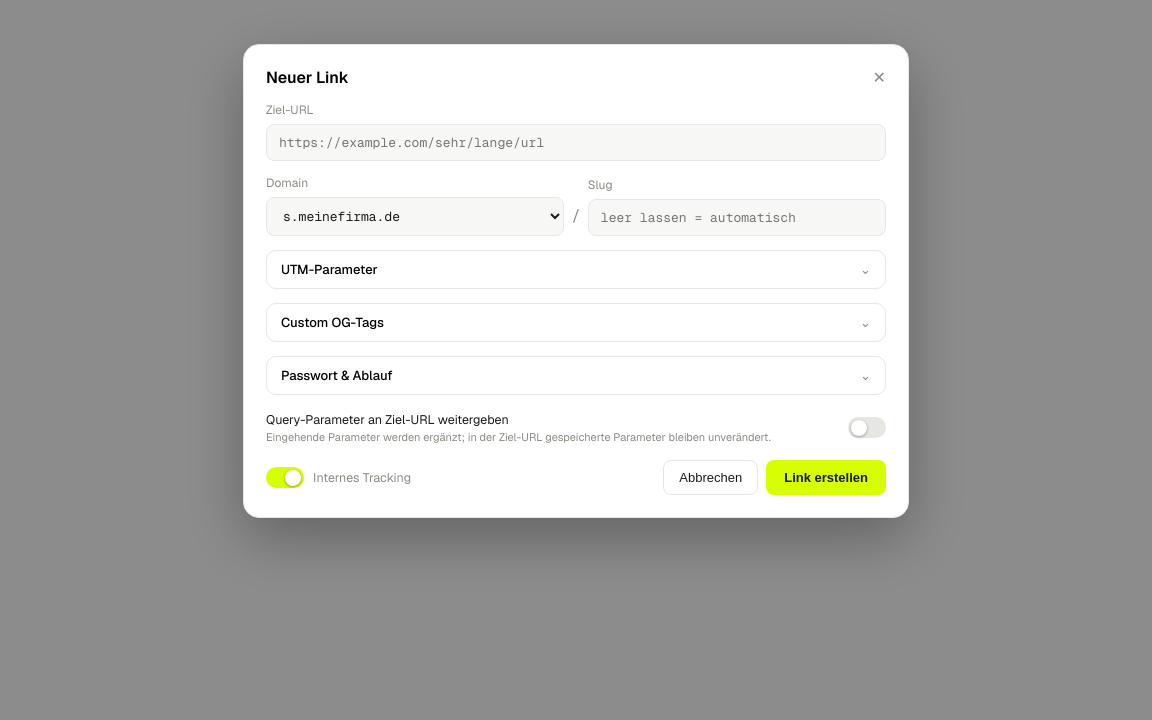
Test case: LinkFormModal › the Security accordion is collapsed by default and shows a summary suffix once a password is set
Expected: the element with class "accordion-header--sec" does not show "gesetzt"
Click the button with class "accordion-header--sec".
click(337, 376)  # box 281,367 -> 871,384
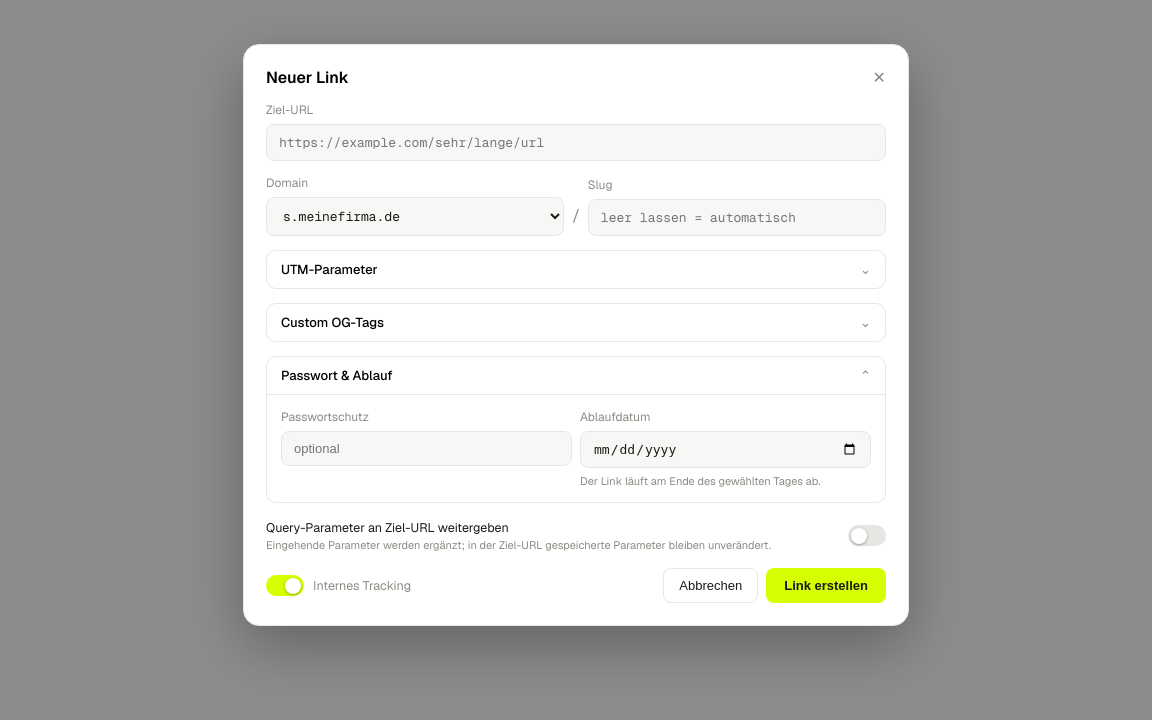
Type "secret" into the password field with placeholder "optional".
click(426, 448); type("secret")  # box 281,431 -> 572,466
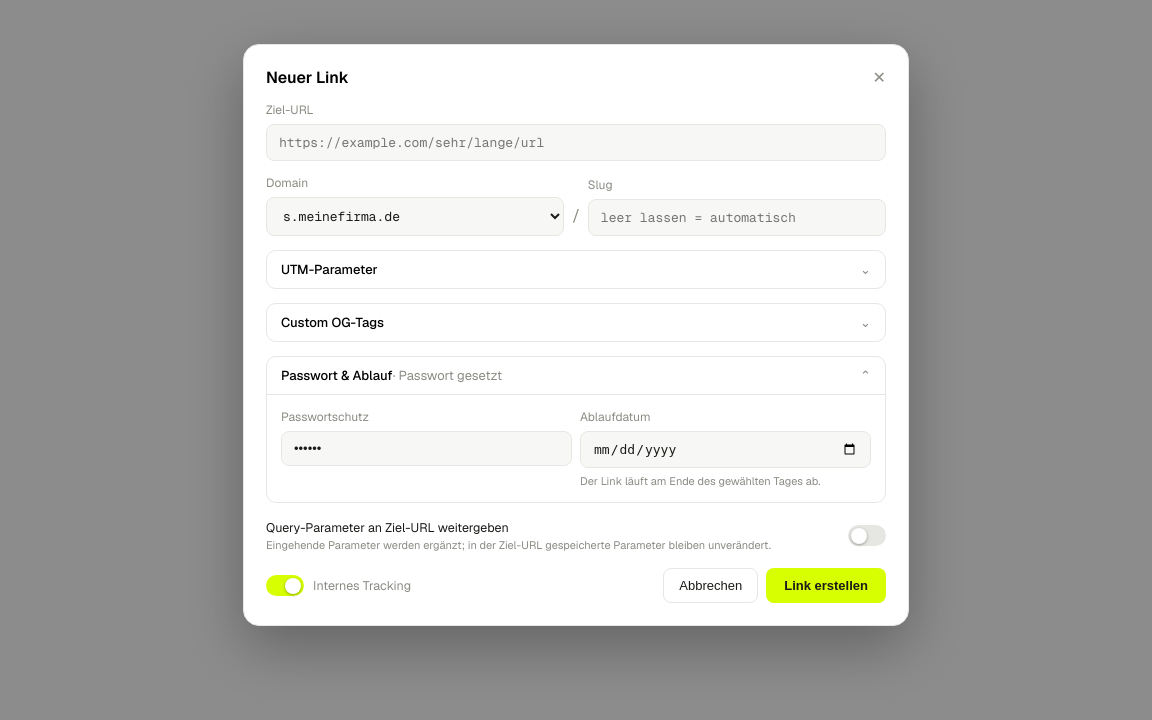
Expected: the button with class "accordion-header--sec" shows "Passwort gesetzt", 281,367 -> 871,384
